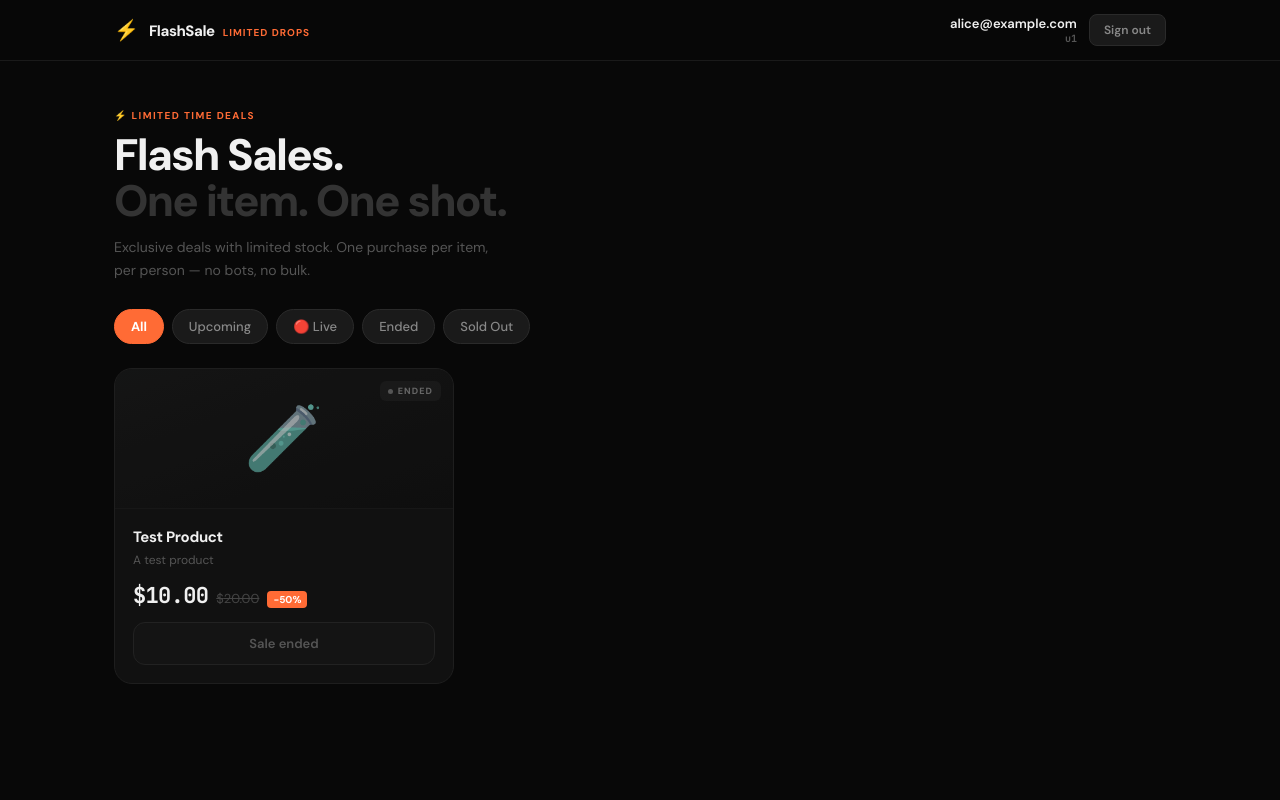
Test: HomePage › shows empty state message when filter matches nothing
Expected: the button "Ended" is shown, 362,309 -> 435,344
Click the button "Upcoming".
click(220, 327)  # box 172,309 -> 268,344
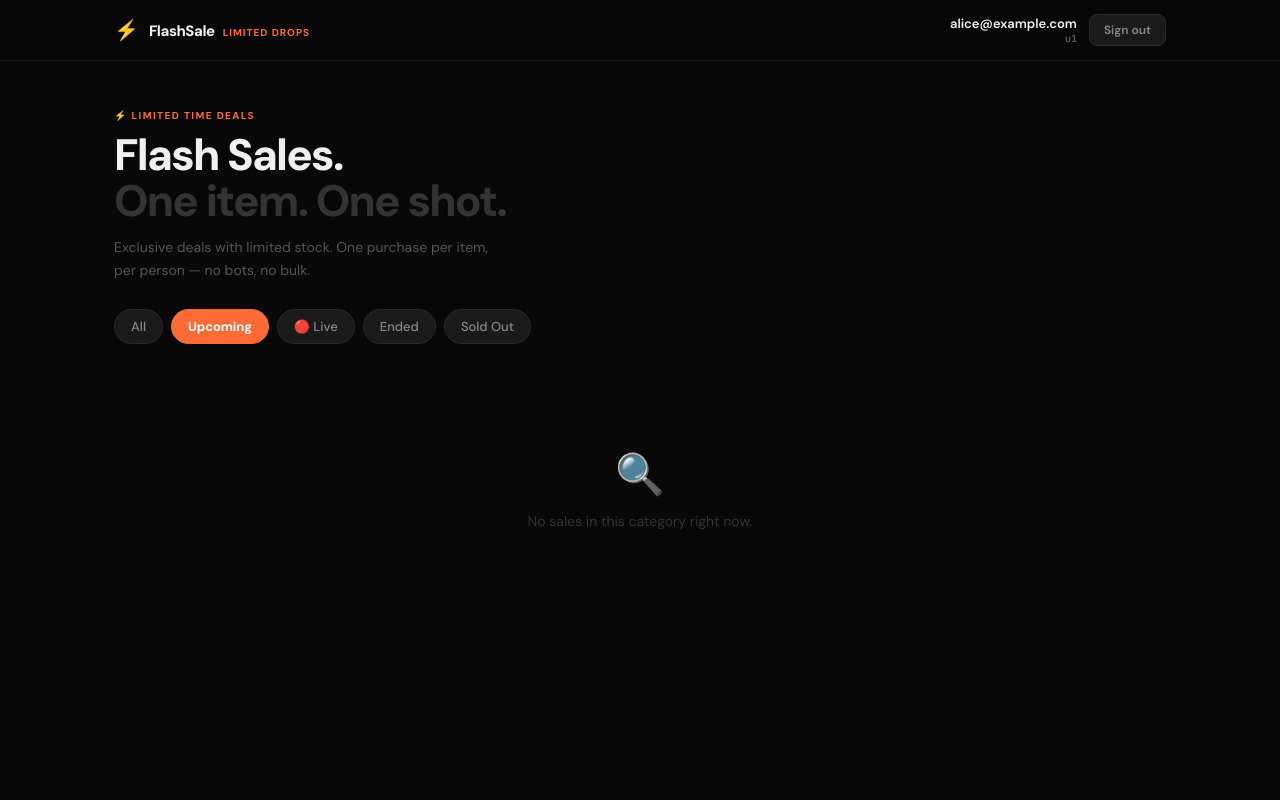
Expected: the text "No sales in this category right now." is shown, 528,512 -> 752,530
